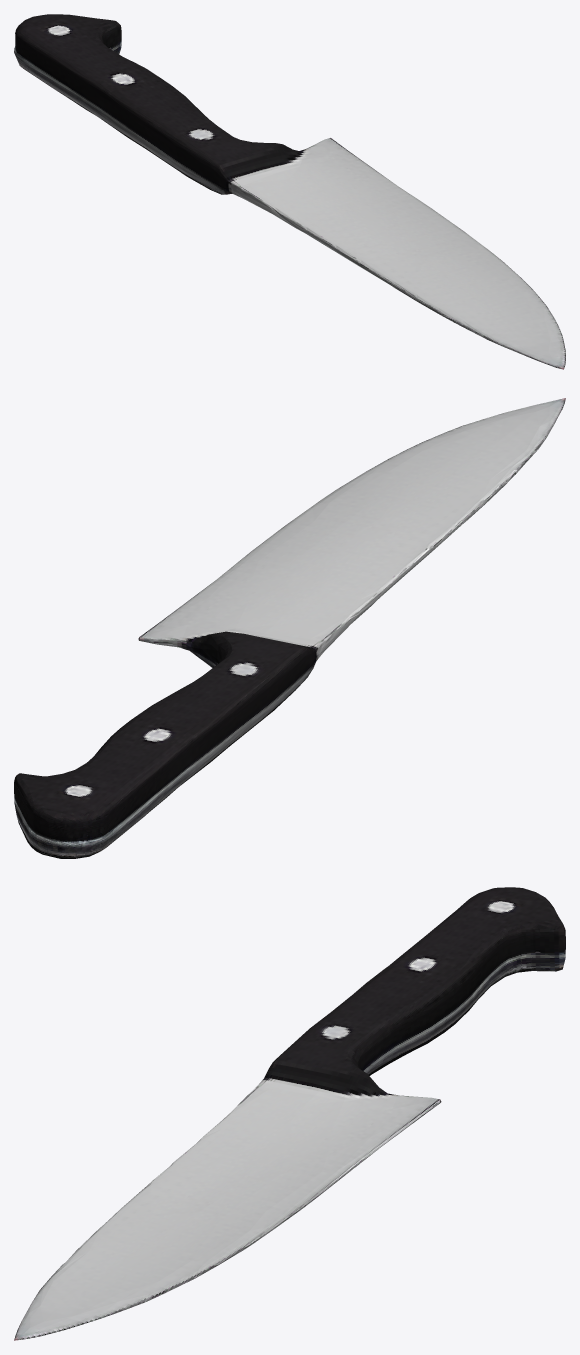
File: knife_2.glb
3 views of the same model, one above another, from view 1: azimuth 30°, elevation 25°; view 2: azimuth 150°, elevation 25°; view 3: azimuth 330°, elevation 25° (orthographic). The views are drawn at different scales.
Parts seen in each view (by area): view 1: world; view 2: world; view 3: world.
Part boxes in pixels (left/top/right/bottom): world: left=14, top=14, right=565, bottom=369; world: left=14, top=398, right=565, bottom=858; world: left=14, top=887, right=565, bottom=1340.
Bounding box in the file's own units: 0.1765 × 0.0436 × 0.9965.
1 material, 1 textured.
